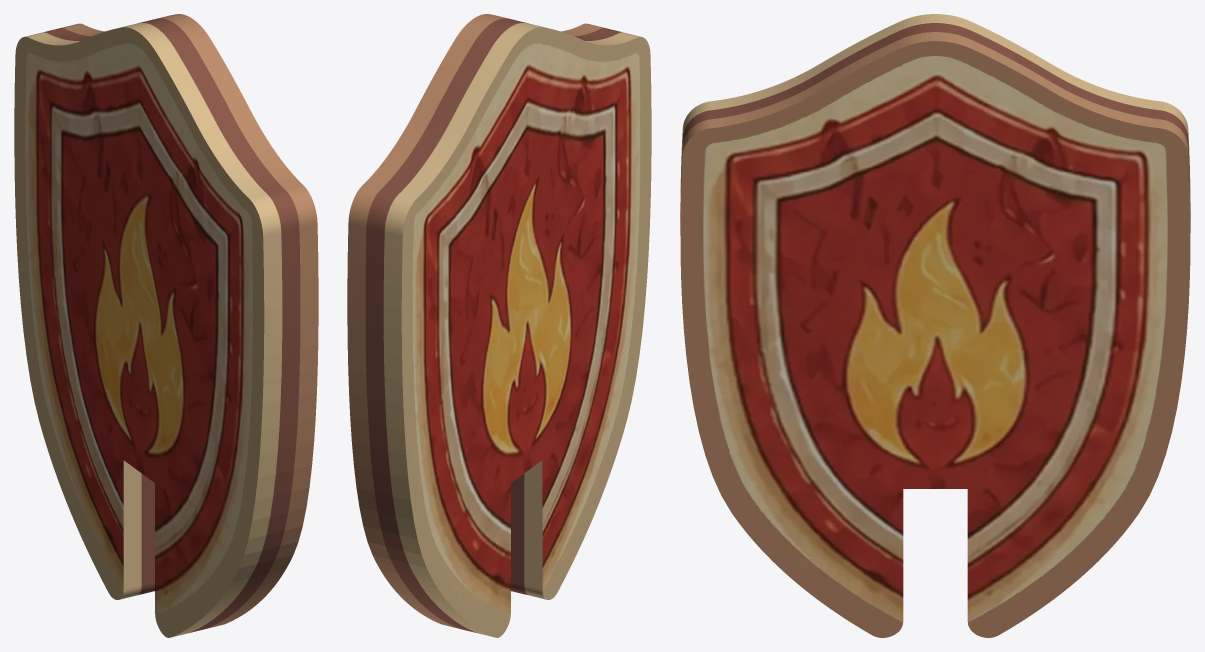
File: extra-topper-02.glb
3 views of the same model, side by side, from view 1: azimuth 30°, elevation 25°; view 2: azimuth 150°, elevation 25°; view 3: azimuth 270°, elevation 25° (orthographic). The views are drawn at different scales.
Parts seen in each view (by area): view 1: extra-topper-02; view 2: extra-topper-02; view 3: extra-topper-02.
Part boxes in pixels (box(x1,y1,x2,y2)): extra-topper-02: box(14, 14, 318, 637); extra-topper-02: box(347, 14, 651, 637); extra-topper-02: box(680, 14, 1190, 637).
Size of the model in its own units: 27 by 277 by 215.
Materials: 6 (3 with a texture image).
